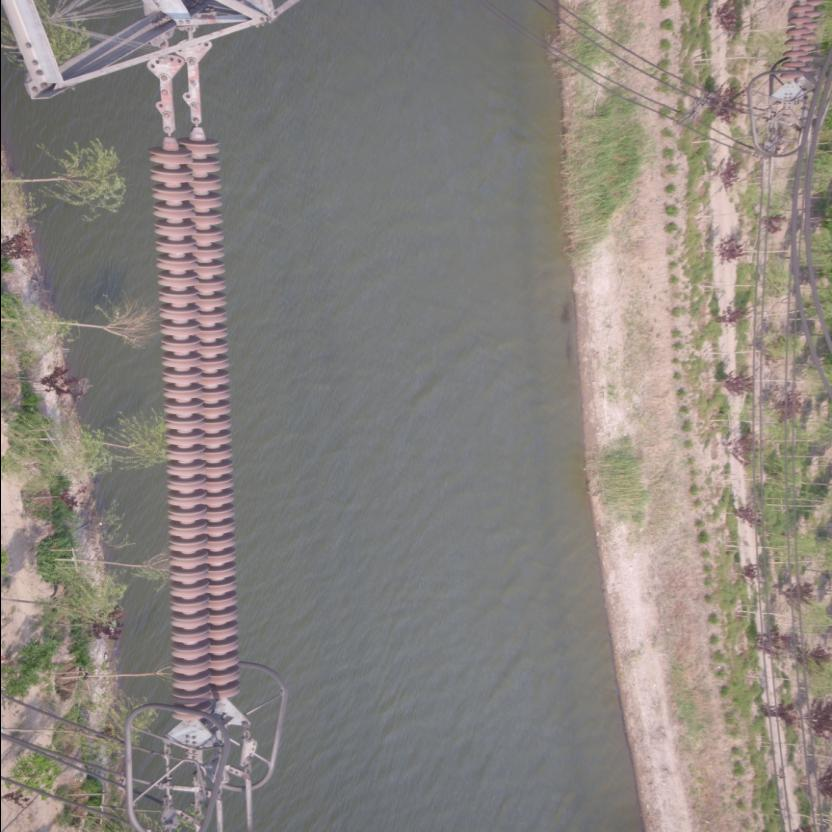insulator: (147, 93, 248, 735)
